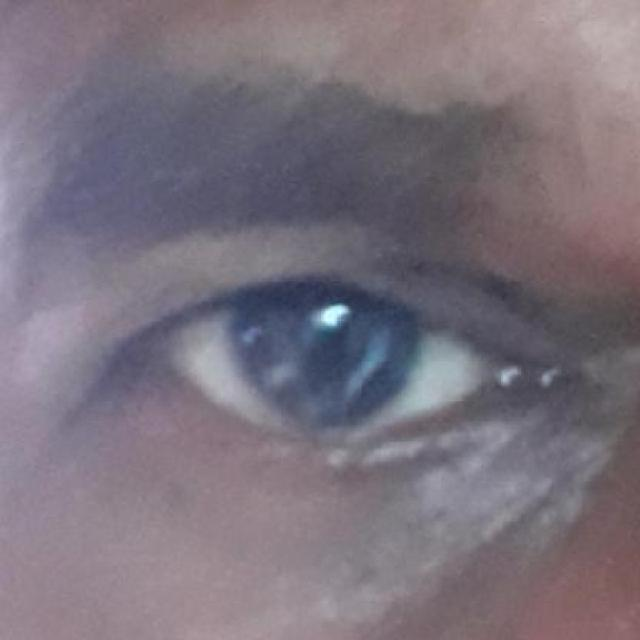awake: (137, 277, 529, 468)
